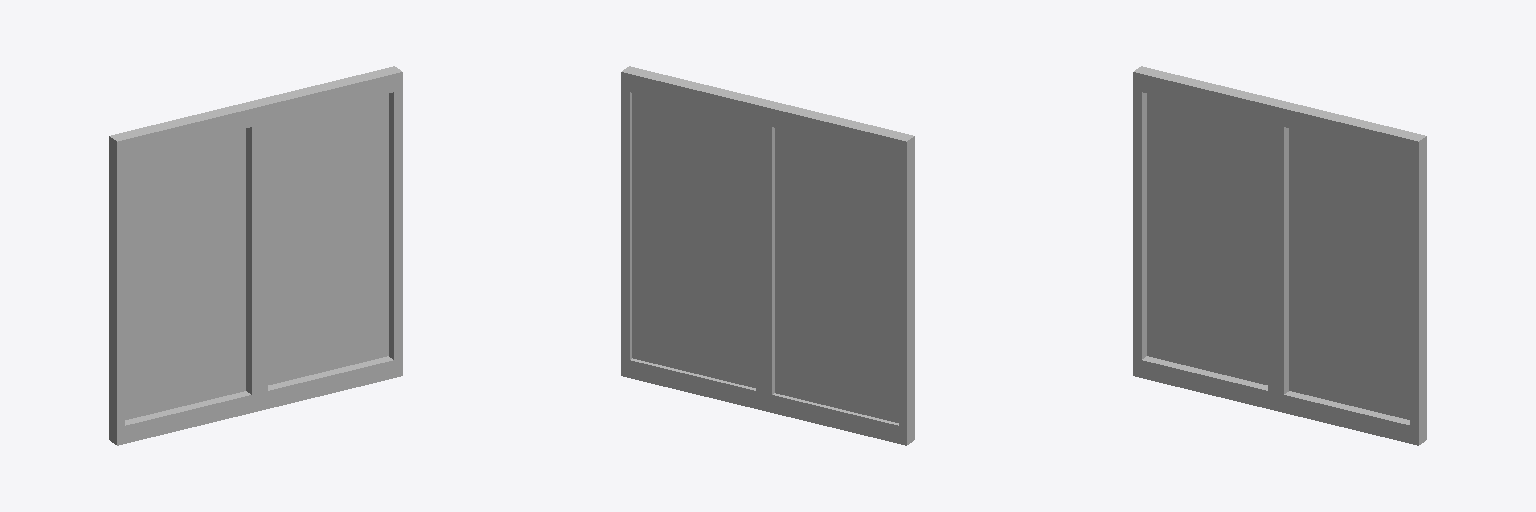
Rendered from DoubleWindow.obj.
The picture shows the model from 3 angles: view 1: azimuth 30°, elevation 25°; view 2: azimuth 150°, elevation 25°; view 3: azimuth 330°, elevation 25°; orthographic projection.
Parts seen in each view (by area): view 1: glass.007_Plane.035; view 2: glass.007_Plane.035; view 3: glass.007_Plane.035.
Boxes of the visible parts, <box> form: glass.007_Plane.035: <box>109,66,402,445</box>; glass.007_Plane.035: <box>621,66,914,445</box>; glass.007_Plane.035: <box>1133,66,1426,445</box>.
Bounding box in the file's own units: 1.85 × 1.88 × 0.0885.